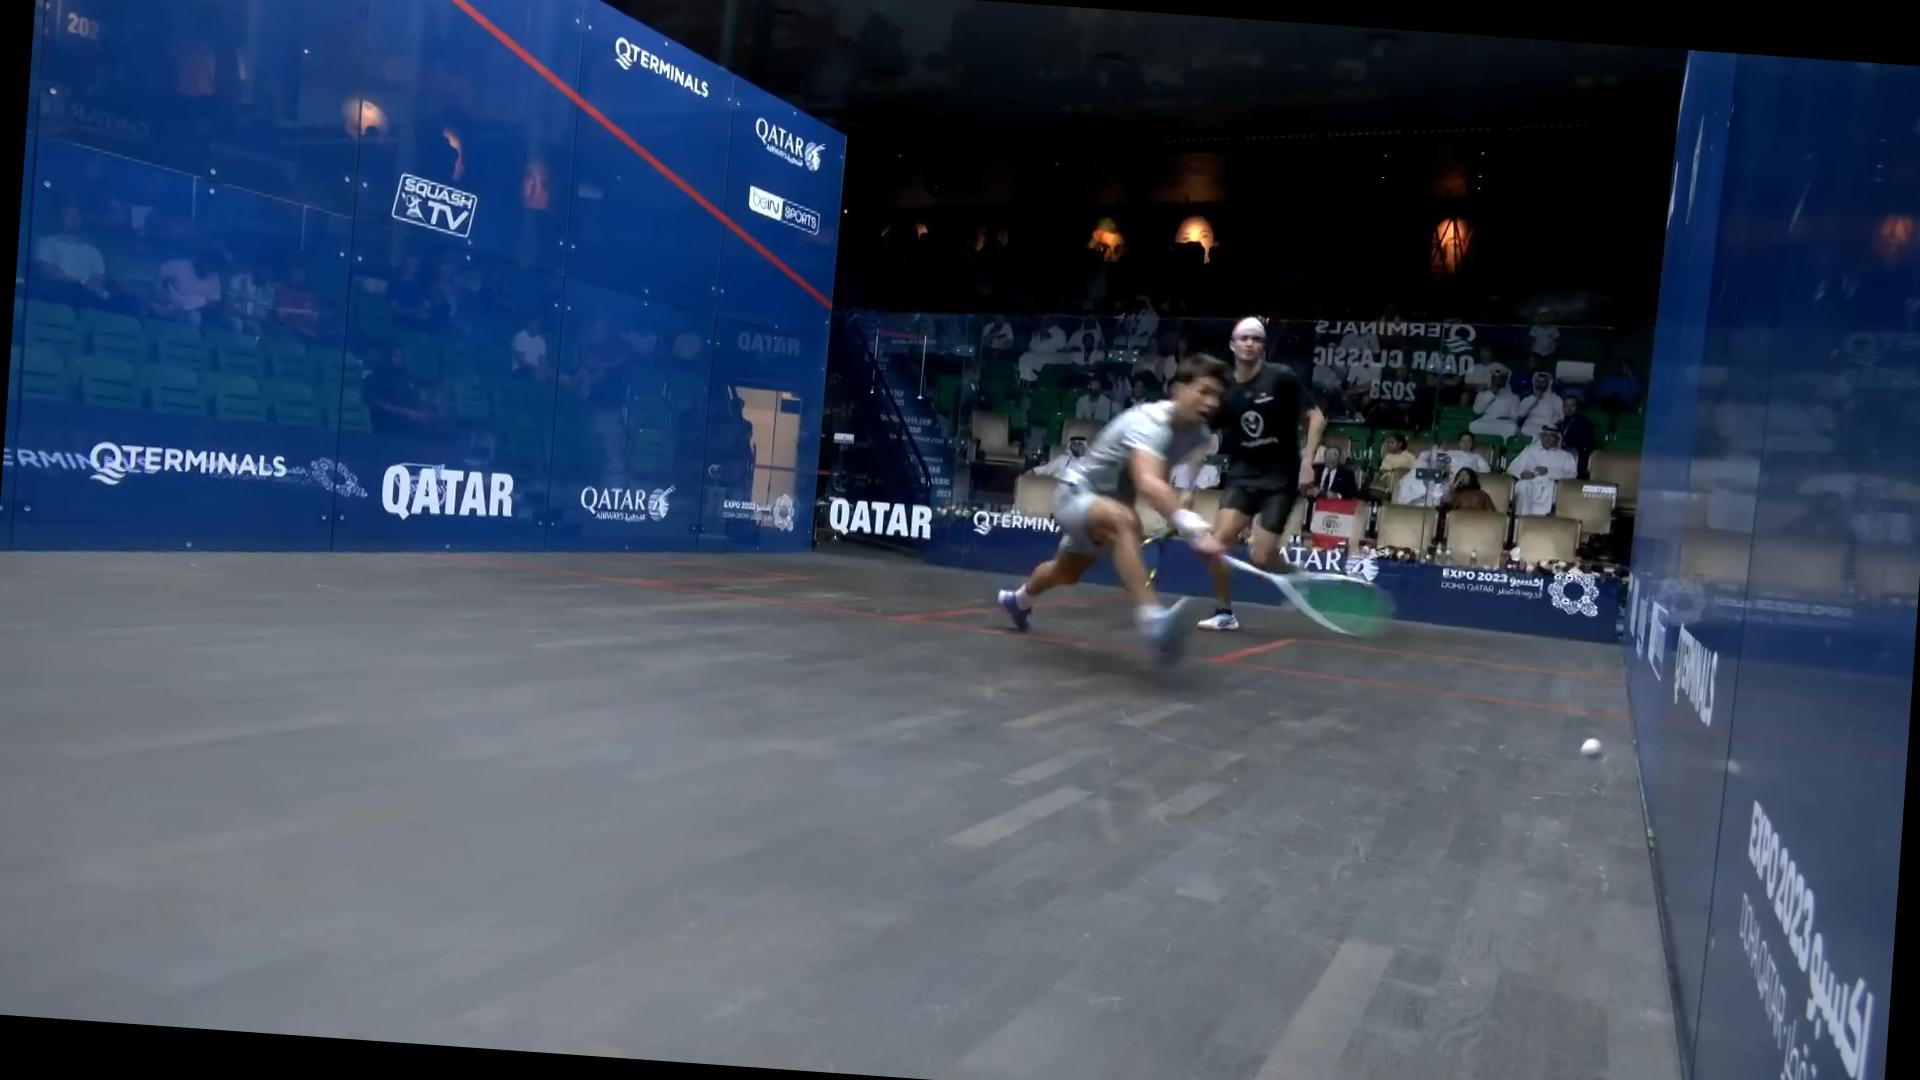Racket: (1217, 545, 1407, 647)
